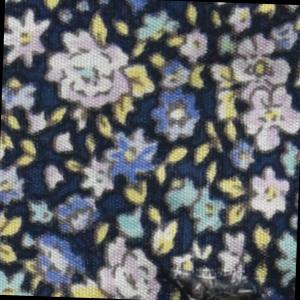Damage: (161, 193, 270, 300)
